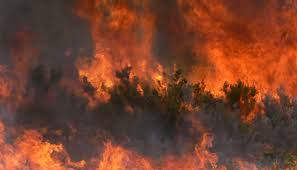fire: (187, 7, 287, 94), (79, 2, 165, 88), (98, 141, 208, 170), (6, 140, 55, 170)
smoke: (6, 7, 78, 70)
